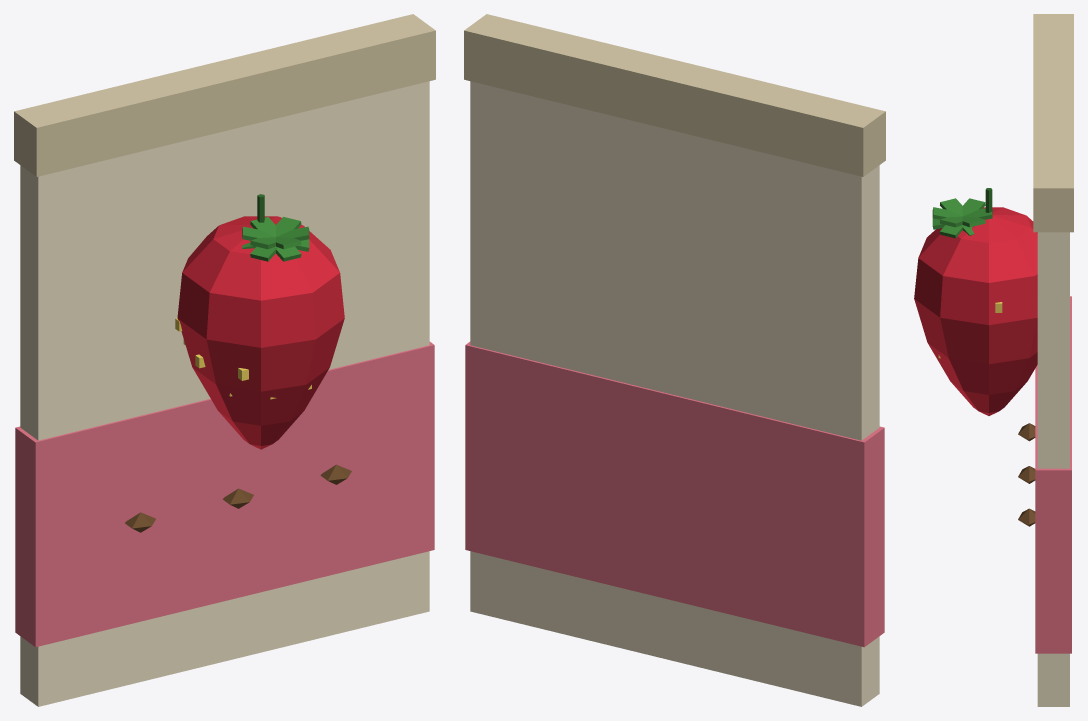
File: uprawa-nasiona-truskawka.glb
3 views of the same model, side by side, from view 1: azimuth 30°, elevation 25°; view 2: azimuth 150°, elevation 25°; view 3: azimuth 270°, elevation 25° (orthographic). The views are drawn at different scales.
Visible parts, largest first — view 1: uprawa-nasiona-truskawka-0, uprawa-nasiona-truskawka-1, uprawa-nasiona-truskawka-2, uprawa-nasiona-truskawka-3; view 2: uprawa-nasiona-truskawka-0, uprawa-nasiona-truskawka-1, uprawa-nasiona-truskawka-2; view 3: uprawa-nasiona-truskawka-3, uprawa-nasiona-truskawka-0, uprawa-nasiona-truskawka-2, uprawa-nasiona-truskawka-1, uprawa-nasiona-truskawka-8, uprawa-nasiona-truskawka-9, uprawa-nasiona-truskawka-7.
Part boxes in pixels (x1,y1,x2,y2): uprawa-nasiona-truskawka-0: [20, 81, 429, 706]; uprawa-nasiona-truskawka-1: [15, 341, 434, 647]; uprawa-nasiona-truskawka-2: [14, 14, 435, 176]; uprawa-nasiona-truskawka-3: [177, 216, 344, 449]; uprawa-nasiona-truskawka-0: [470, 81, 879, 706]; uprawa-nasiona-truskawka-1: [465, 341, 884, 647]; uprawa-nasiona-truskawka-2: [464, 14, 885, 176]; uprawa-nasiona-truskawka-3: [914, 207, 1037, 415]; uprawa-nasiona-truskawka-0: [1037, 232, 1069, 706]; uprawa-nasiona-truskawka-2: [1033, 14, 1073, 232]; uprawa-nasiona-truskawka-1: [1035, 296, 1071, 653]; uprawa-nasiona-truskawka-8: [939, 198, 985, 238]; uprawa-nasiona-truskawka-9: [940, 198, 974, 235]; uprawa-nasiona-truskawka-7: [932, 208, 992, 229].
Size of the model in its own units: 1.02 by 1.42 by 0.3952.
